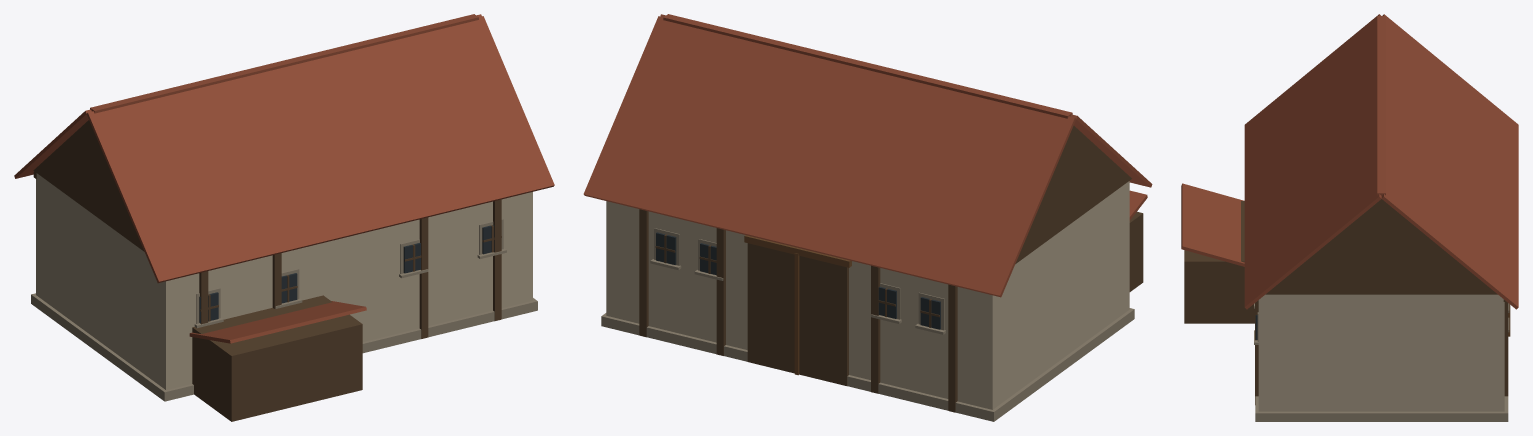
File: barn.glb
3 renders of one model, left to right at view 1: azimuth 30°, elevation 25°; view 2: azimuth 150°, elevation 25°; view 3: azimuth 270°, elevation 25°, orthographic. The views are drawn at different scales.
Parts seen in each view (by area): view 1: barn; view 2: barn; view 3: barn.
Boxes of the visible parts, left/top/right/bottom form: barn: left=14, top=14, right=554, bottom=421; barn: left=583, top=14, right=1152, bottom=421; barn: left=1181, top=14, right=1518, bottom=421.
Bounding box in the file's own units: 15.1 × 8.92 × 11.79.
